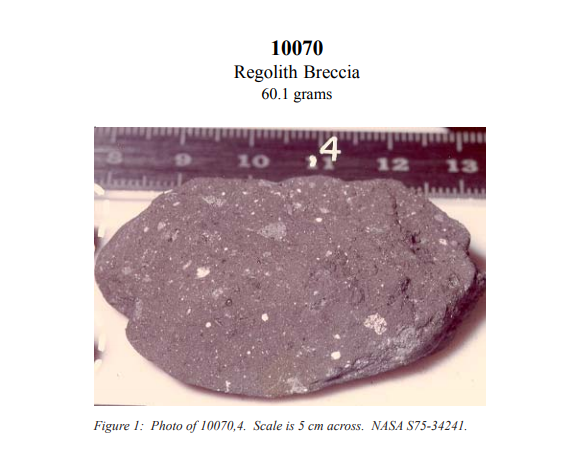Breccia: (82, 129, 473, 406)
